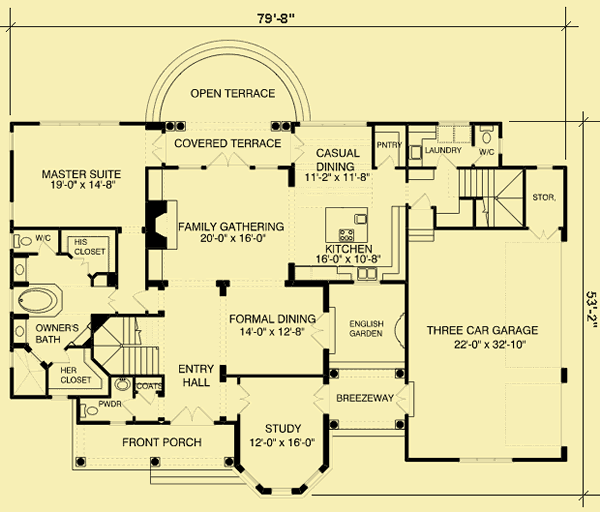laundry room has washer and dryer: (404, 121, 473, 168)
master bathroom has a large tub, dual sinks, large sink and multiple closets wit: (9, 227, 118, 399)
small bathroom is with small and large sink: (75, 376, 135, 423)
this kitchen has a kitchen counter with sink and other cooking facility: (284, 196, 406, 284)
